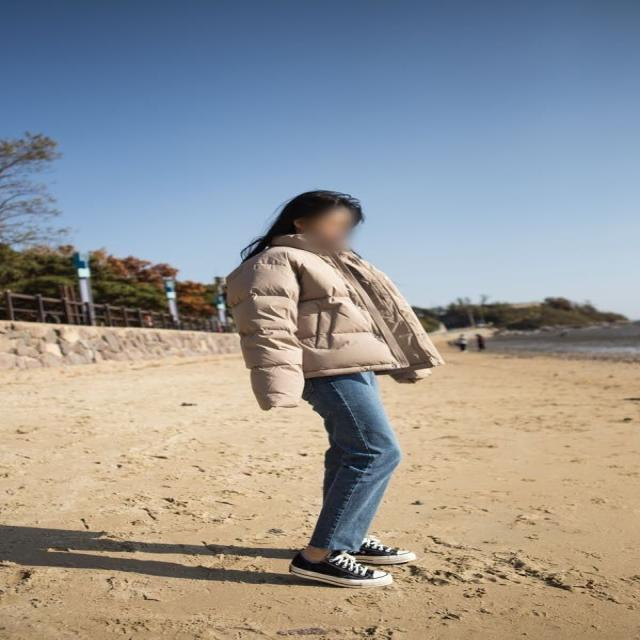denimpants: (305, 373, 399, 550)
padding: (227, 231, 442, 410)
